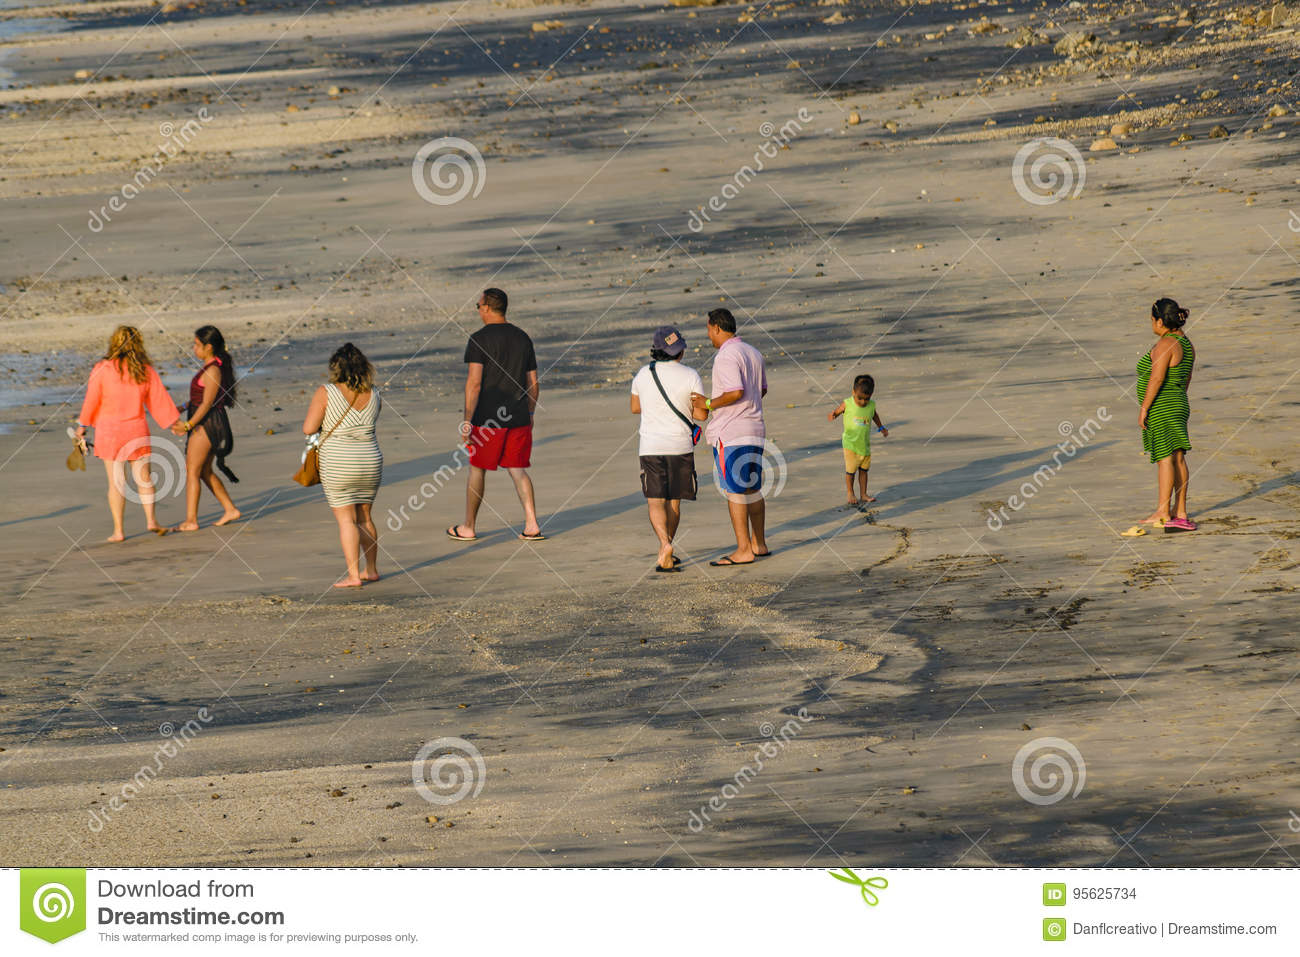Person: (440, 287, 551, 542), (69, 316, 181, 547), (696, 302, 791, 572), (298, 341, 394, 592), (622, 326, 717, 578), (1133, 291, 1209, 540), (177, 323, 246, 541), (820, 371, 894, 515)
